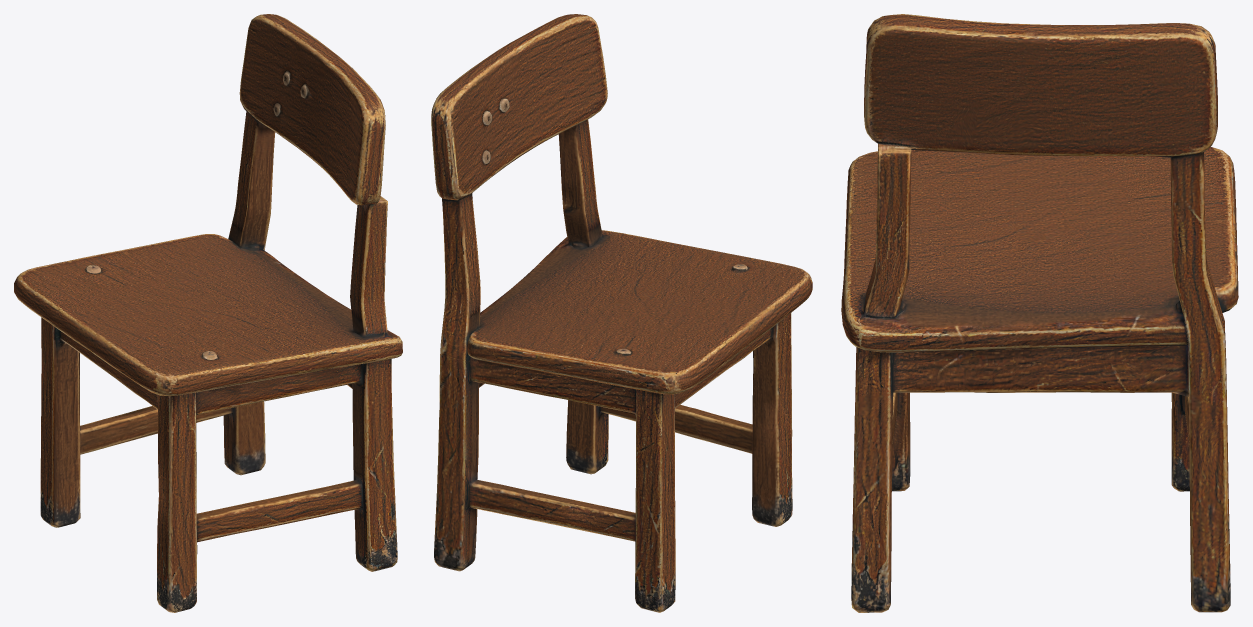
Rendered from PupilChair.fbx.
3 views of the same model, side by side, from view 1: azimuth 30°, elevation 25°; view 2: azimuth 150°, elevation 25°; view 3: azimuth 270°, elevation 25° (orthographic). The views are drawn at different scales.
Parts seen in each view (by area): view 1: tripo_node_07cb0c5a-e574-4cb3-8191-53221213947e; view 2: tripo_node_07cb0c5a-e574-4cb3-8191-53221213947e; view 3: tripo_node_07cb0c5a-e574-4cb3-8191-53221213947e.
Boxes of the visible parts, x1,y1,x2,y2 form: tripo_node_07cb0c5a-e574-4cb3-8191-53221213947e: (14,14,402,612); tripo_node_07cb0c5a-e574-4cb3-8191-53221213947e: (431,14,812,612); tripo_node_07cb0c5a-e574-4cb3-8191-53221213947e: (841,14,1238,612).
Size of the model in its own units: 60.08 by 100 by 60.83.
1 material, 1 textured.
